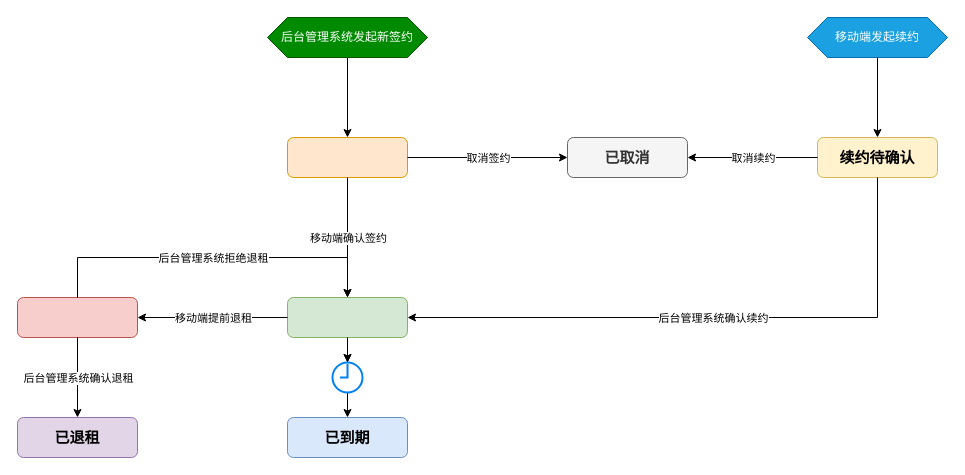
Some shapes in this 965 by 475 pixel diagram are drawn without their labels. The shapes that lost their labels are listed below. From the top down, each one's box as (x1, y1, x2, y2) in pixels, then its label:
(286, 136, 408, 178): 签约待确认
(16, 296, 138, 338): 退租待确认
(286, 296, 408, 338): 已签约
